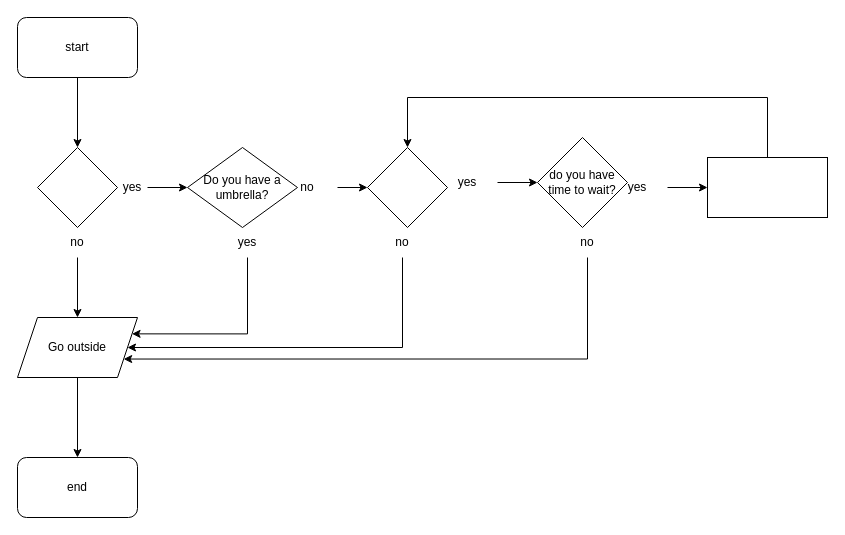
The diagram is 845 pixels wide and 535 high, and some of its shapes have lost their labels. Here are the shapes that lost their labels. From the top down, the box of each, then its label:
(36, 146, 118, 228): Is it raining?
(366, 146, 448, 228): Is it still raining?
(706, 156, 828, 218): wait
